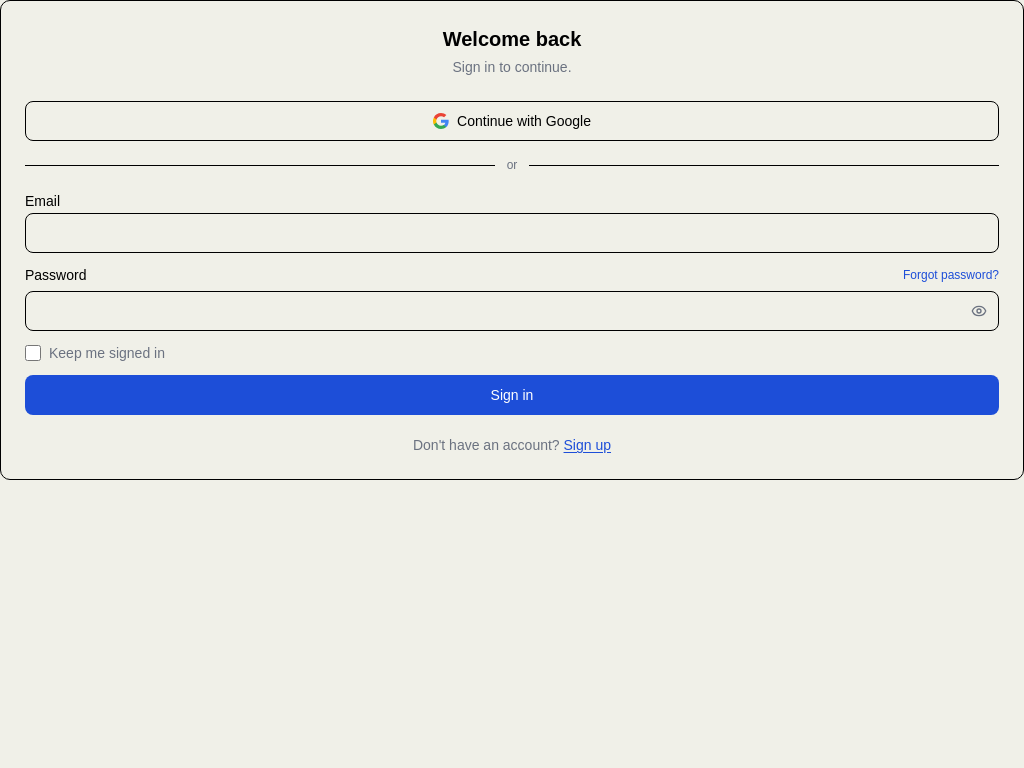
Test: AuthCard › shows a uniform error banner on invalid credentials
The image size is (1024, 768).
Type "a@b.com" into the field labelled "Email" at (512,233), box [25,213,999,253]
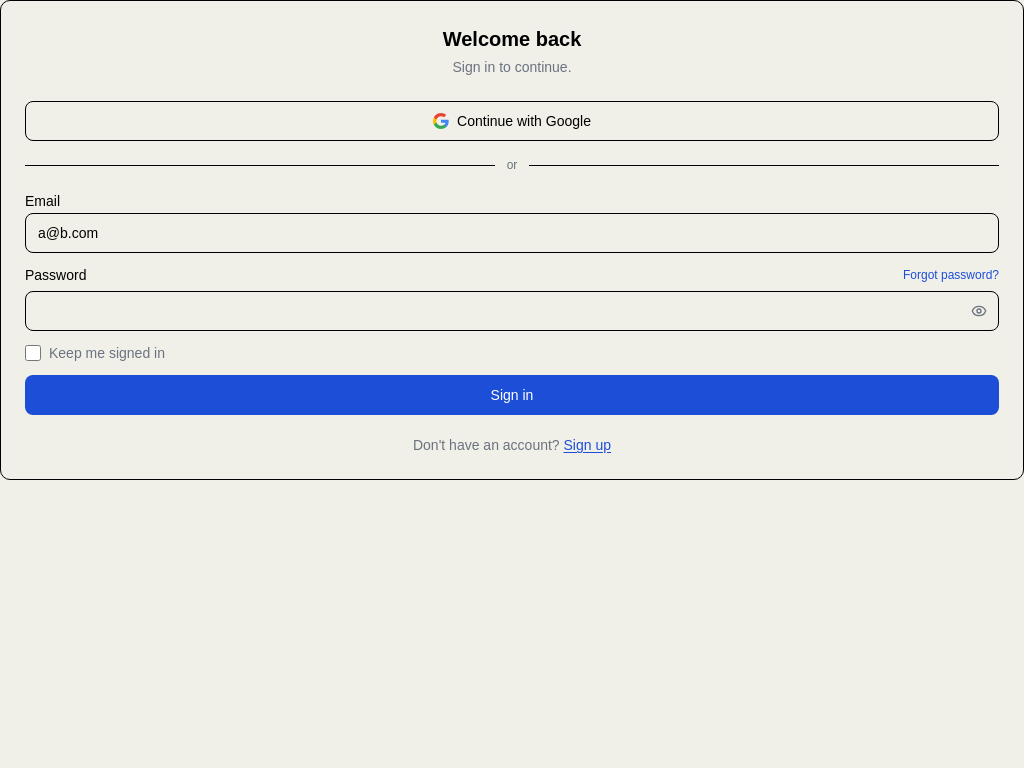
Type "secretpw" into the password field labelled "Password" at (512,311), box [25,291,999,331]
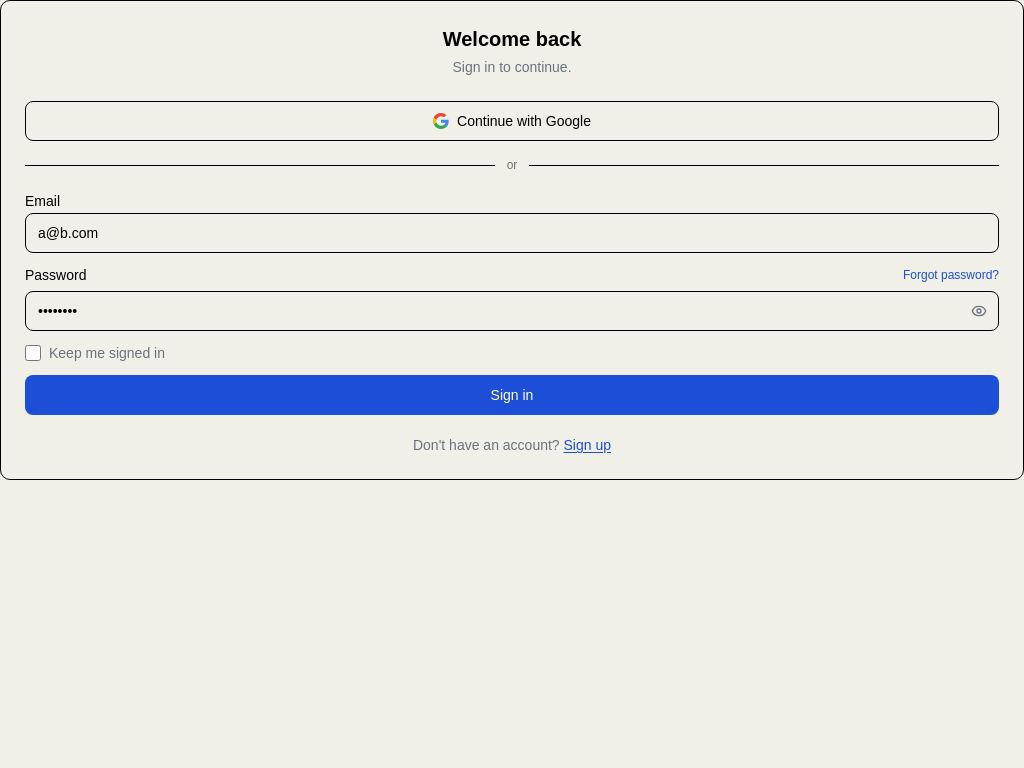
Click the button "Sign in" at (512,395), box [25,375,999,415]
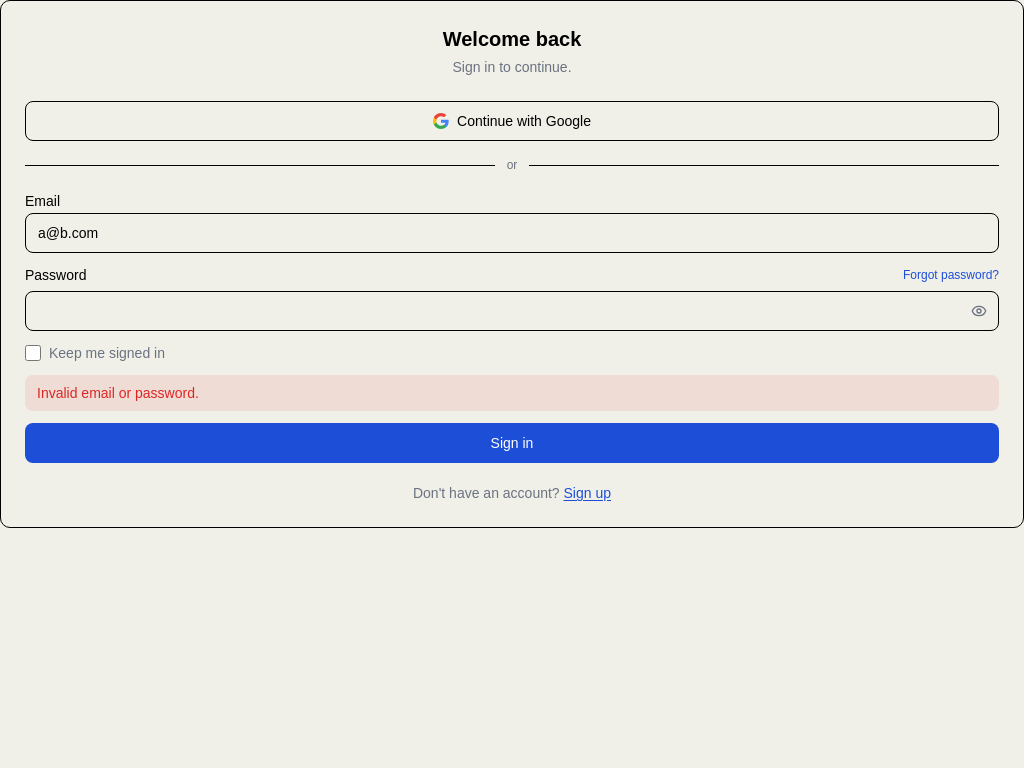
Now the message reads "Invalid email or password.", box [37,385,199,401]
